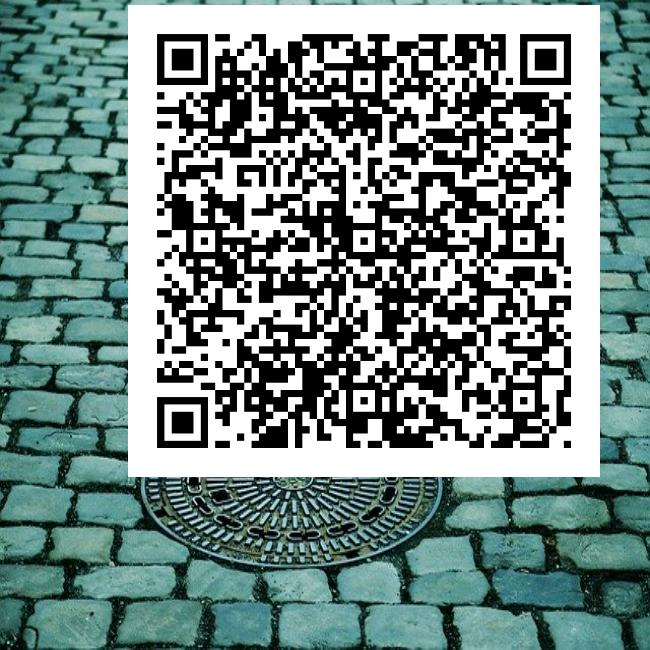qr_code: (128, 5, 599, 476)
